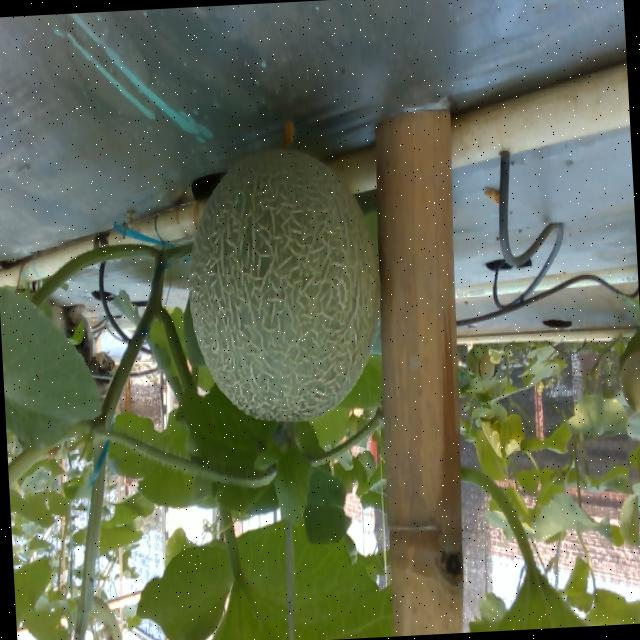melon: (189, 149, 378, 420)
